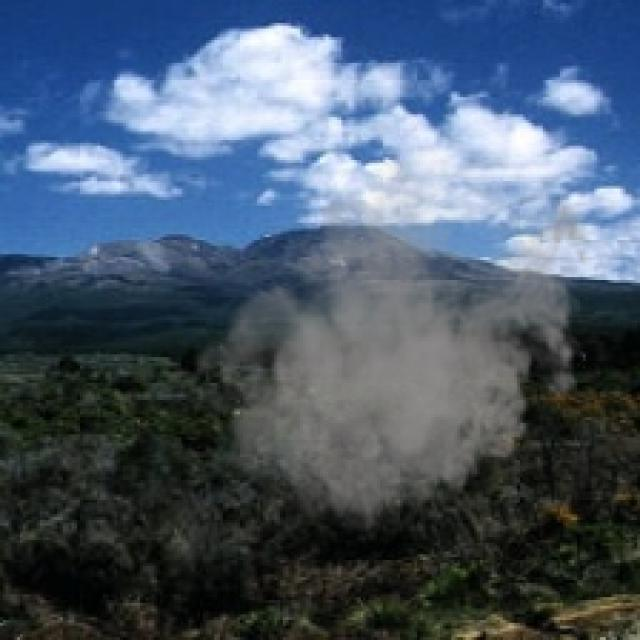Smoke: (191, 131, 603, 546)
